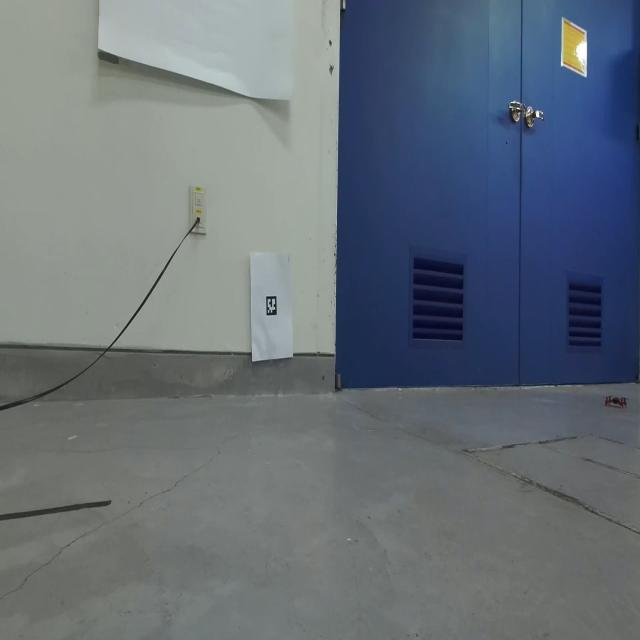crazyflie: (599, 388, 630, 414)
